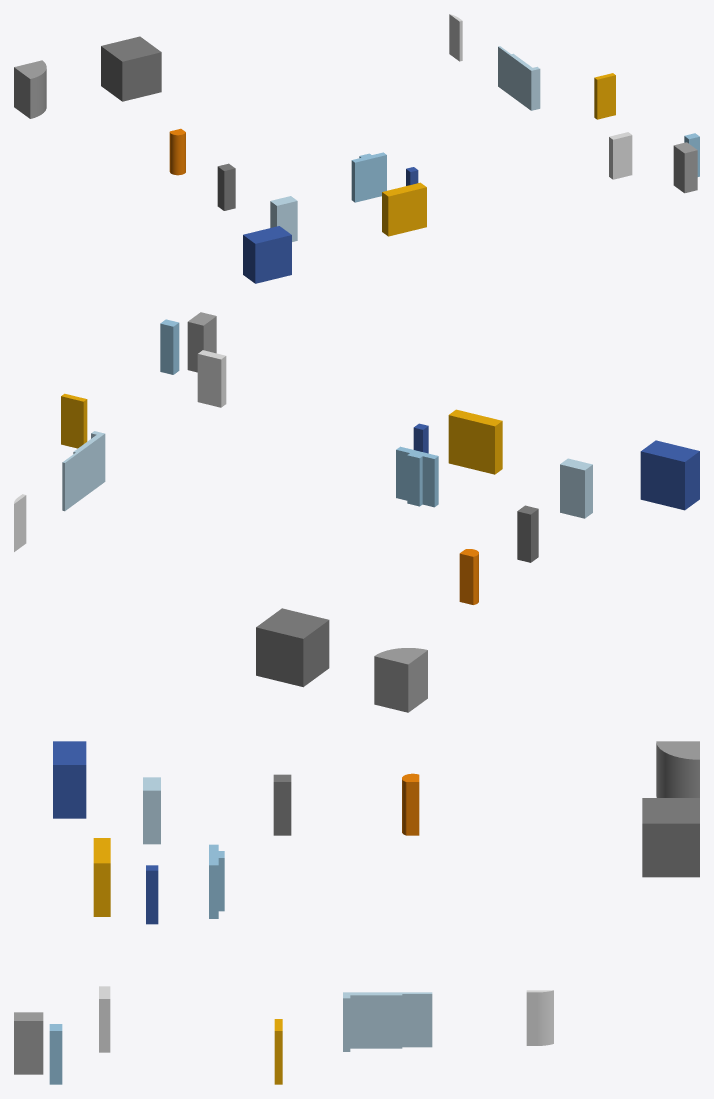
File: NewObstaclesShorter.dae
The picture shows the model from 3 angles, top to bottom: view 1: azimuth 30°, elevation 25°; view 2: azimuth 150°, elevation 25°; view 3: azimuth 270°, elevation 25°; orthographic projection. The views are drawn at different scales.
Parts seen in each view (by area): view 1: Part 19, Part 23, Part 20, Part 25, Part 30, Part 29, Part 22, Part 32, Part 28, Part 33, Part 27, Part 26 (+1 smaller); view 2: Part 19, Part 23, Part 30, Part 20, Part 25, Part 29, Part 33, Part 32, Part 28, Part 22, Part 27, Part 26 (+2 smaller); view 3: Part 25, Part 19, Part 23, Part 30, Part 22, Part 24, Part 20, Part 33, Part 27, Part 29, Part 26, Part 21 (+3 smaller).
Boxes of the visible parts, x1,y1,x2,y2 form: Part 19: (101, 36, 161, 101); Part 23: (243, 226, 291, 283); Part 20: (382, 182, 426, 236); Part 25: (498, 46, 540, 110); Part 30: (14, 60, 46, 118); Part 29: (351, 152, 386, 202); Part 22: (673, 142, 697, 193); Part 32: (609, 132, 632, 179); Part 28: (594, 73, 615, 119); Part 33: (270, 196, 297, 241); Part 27: (217, 163, 235, 210); Part 26: (169, 128, 185, 175); Part 19: (256, 608, 329, 687); Part 23: (640, 440, 699, 510); Part 30: (374, 648, 427, 712); Part 20: (448, 409, 502, 474); Part 25: (62, 431, 105, 511); Part 29: (396, 446, 438, 507); Part 33: (560, 458, 592, 518); Part 32: (197, 350, 226, 407); Part 28: (61, 393, 87, 448); Part 22: (187, 312, 216, 372); Part 27: (517, 505, 538, 562); Part 26: (459, 549, 478, 604); Part 25: (343, 992, 432, 1051); Part 19: (642, 798, 699, 877); Part 23: (53, 741, 86, 818); Part 30: (656, 741, 699, 797); Part 22: (14, 1012, 43, 1074); Part 24: (526, 990, 553, 1045); Part 20: (93, 838, 110, 916); Part 33: (143, 777, 160, 844); Part 27: (273, 774, 291, 835); Part 29: (209, 844, 224, 918); Part 26: (402, 773, 419, 835); Part 21: (49, 1024, 62, 1084).
Bounding box in the file's own units: 34.8 × 34.8 × 3.
